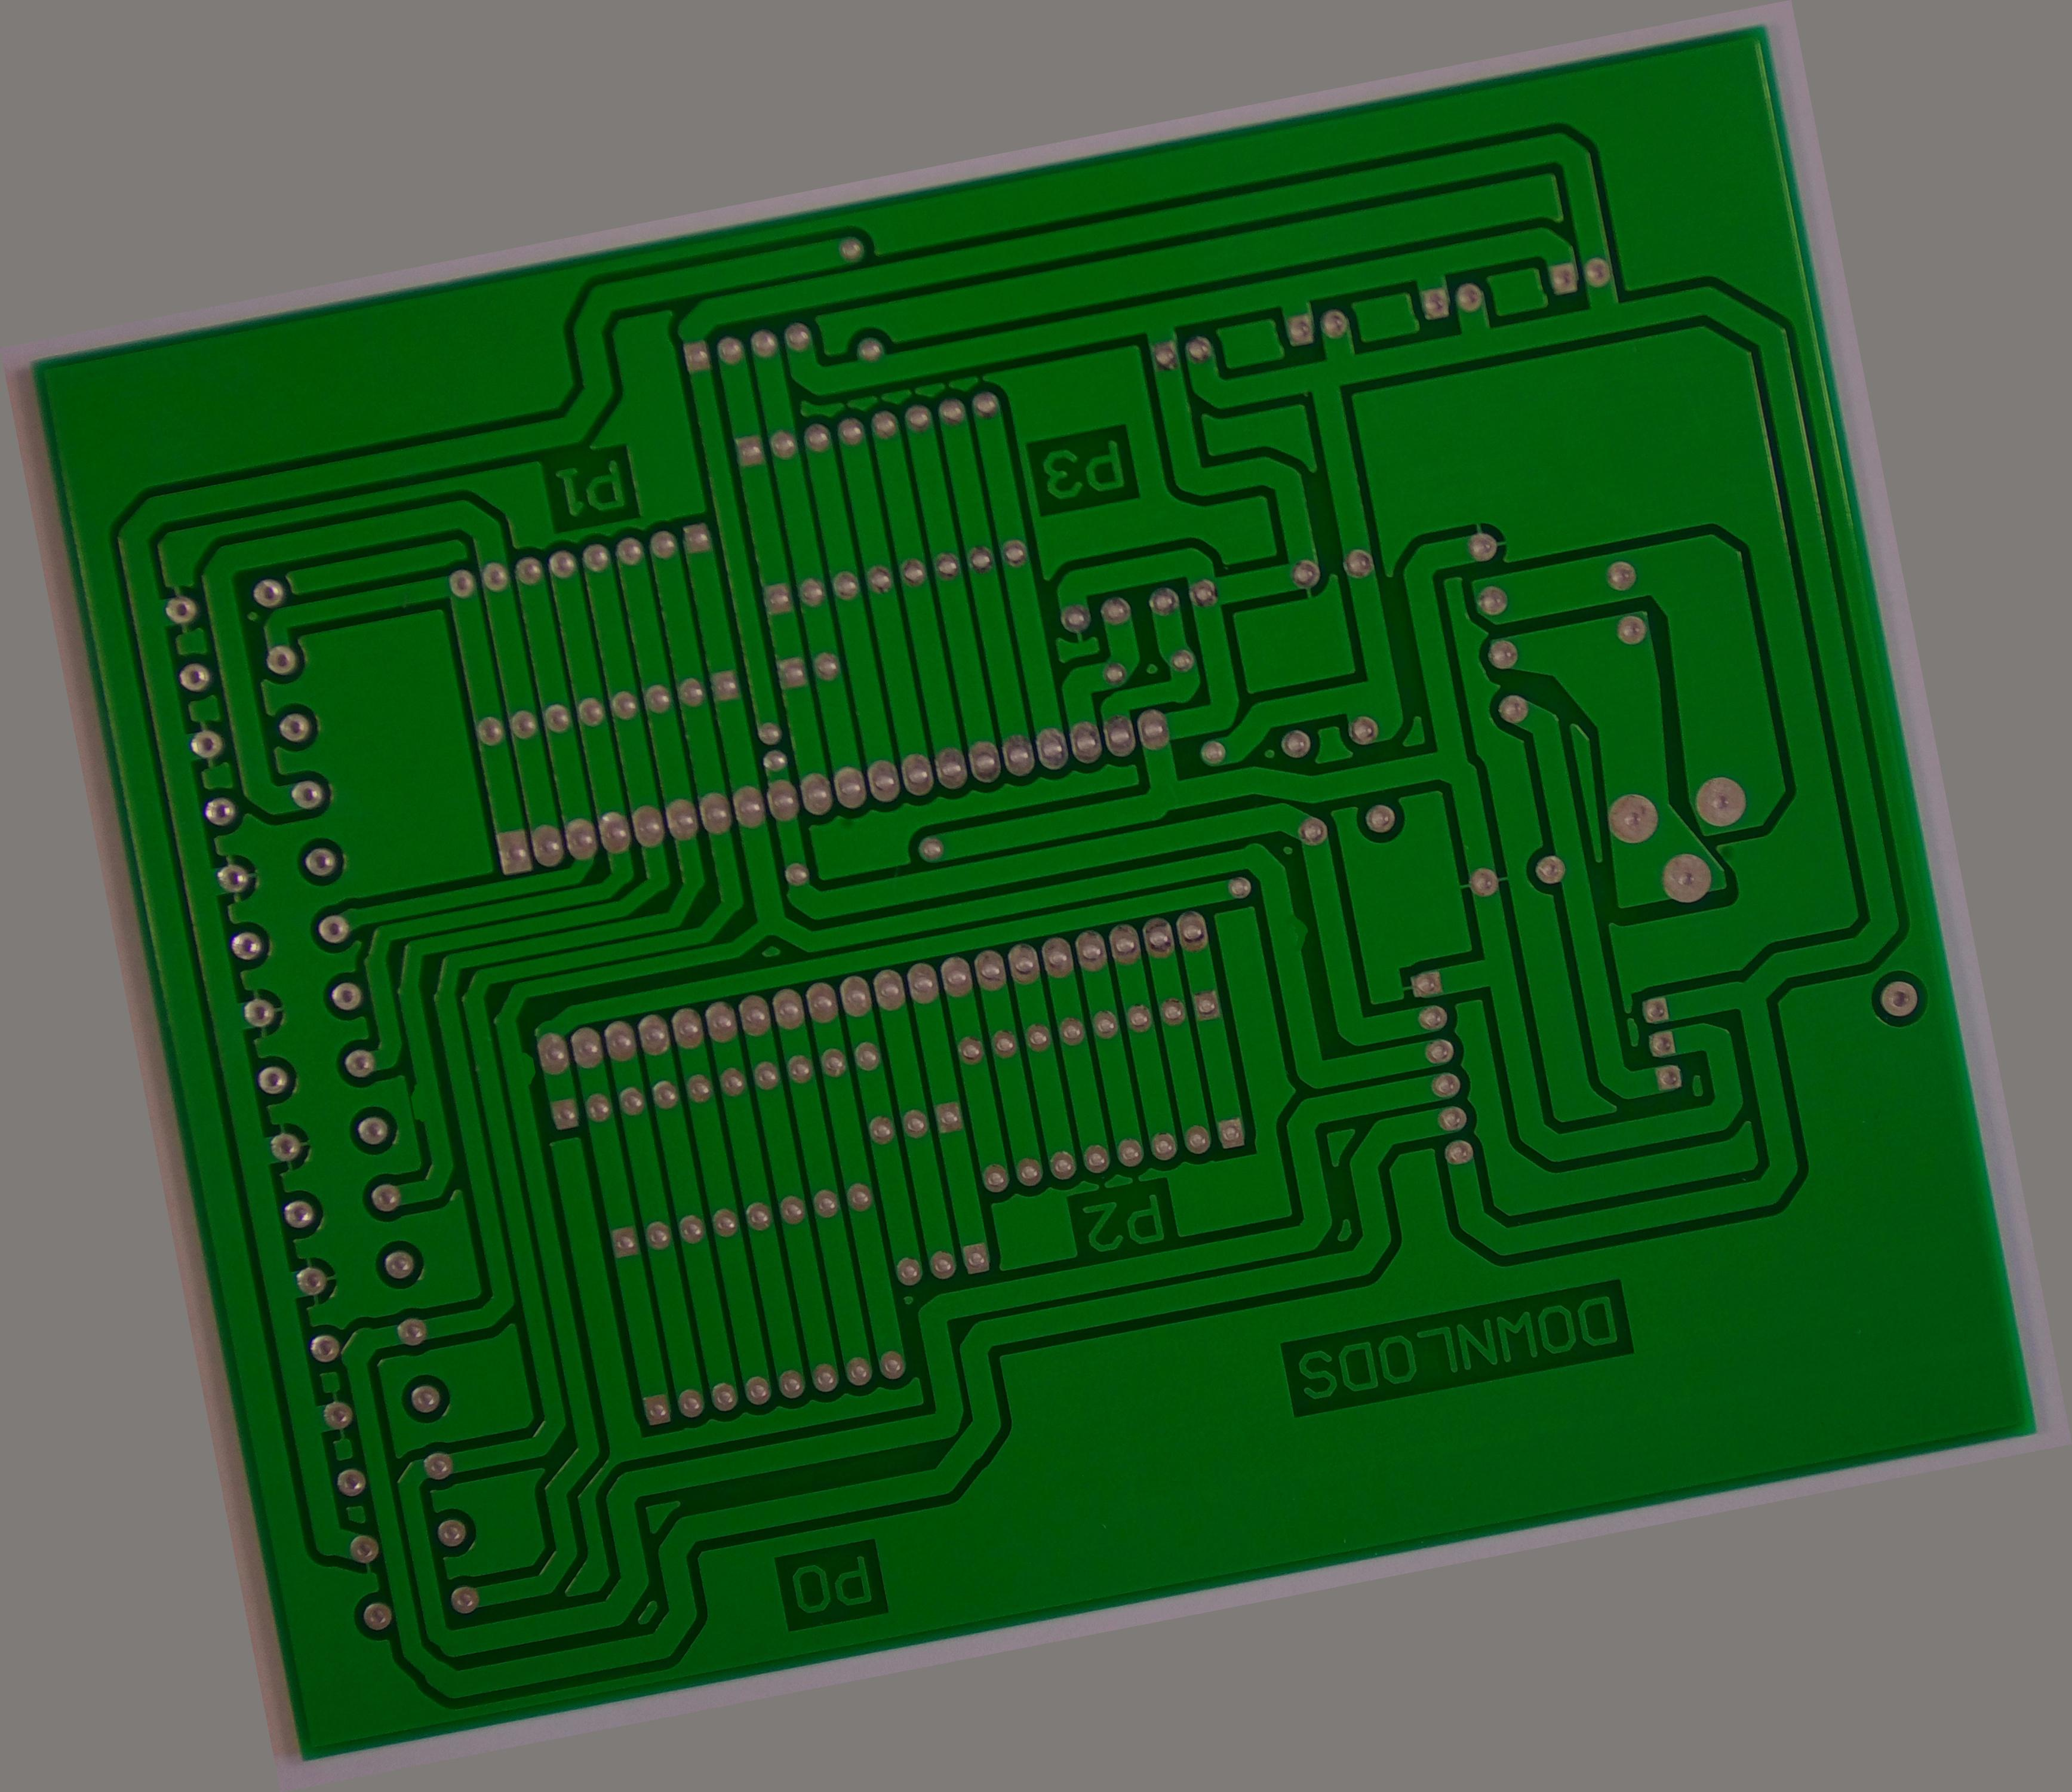spur: (1272, 895, 1325, 962), (398, 1068, 444, 1133), (504, 1036, 546, 1094)
